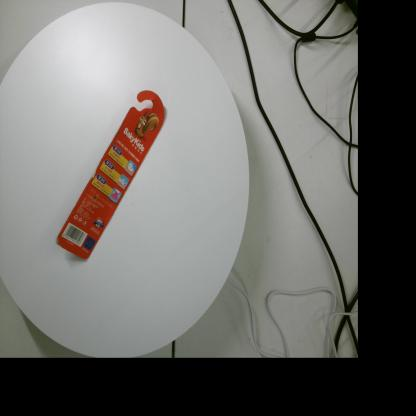Personal Hygiene: (55, 90, 165, 260)
